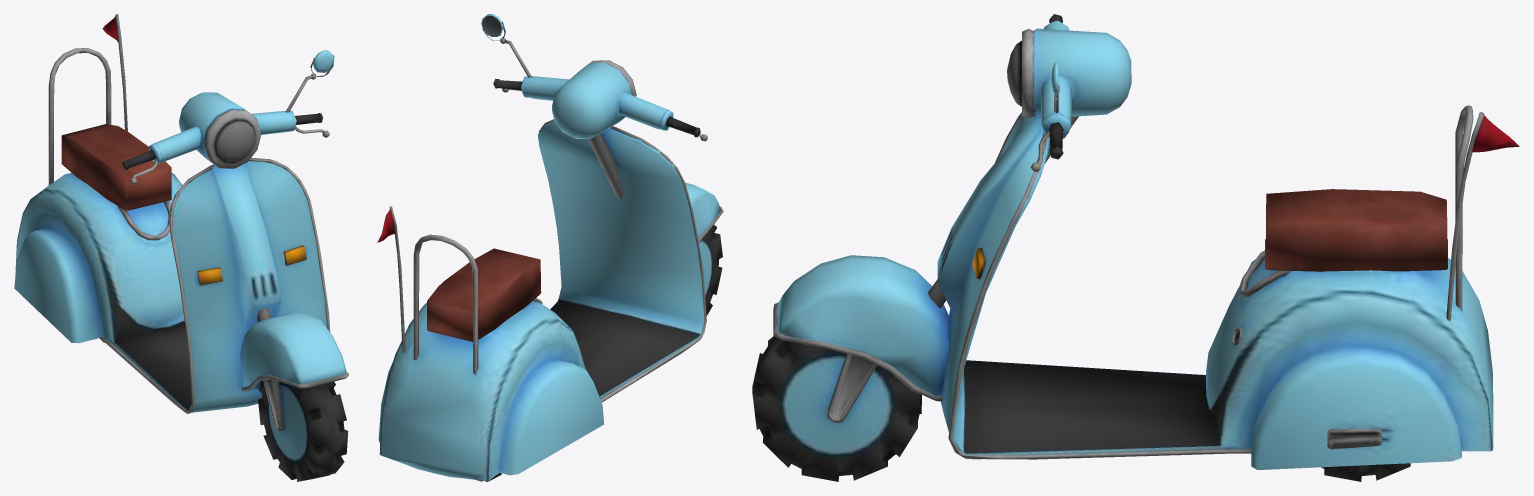
The model's file is motorbike.meshopt.glb.
3 views of the same model, side by side, from view 1: azimuth 30°, elevation 25°; view 2: azimuth 150°, elevation 25°; view 3: azimuth 270°, elevation 25° (orthographic). The views are drawn at different scales.
Visible parts, largest first — view 1: Motorbike; view 2: Motorbike; view 3: Motorbike.
Boxes of the visible parts, x1,y1,x2,y2 form: Motorbike: (14, 14, 348, 481); Motorbike: (377, 14, 723, 481); Motorbike: (752, 14, 1519, 481).
Bounding box in the file's own units: 1.28 × 1.98 × 2.9.
Materials: 1 (1 with a texture image).
